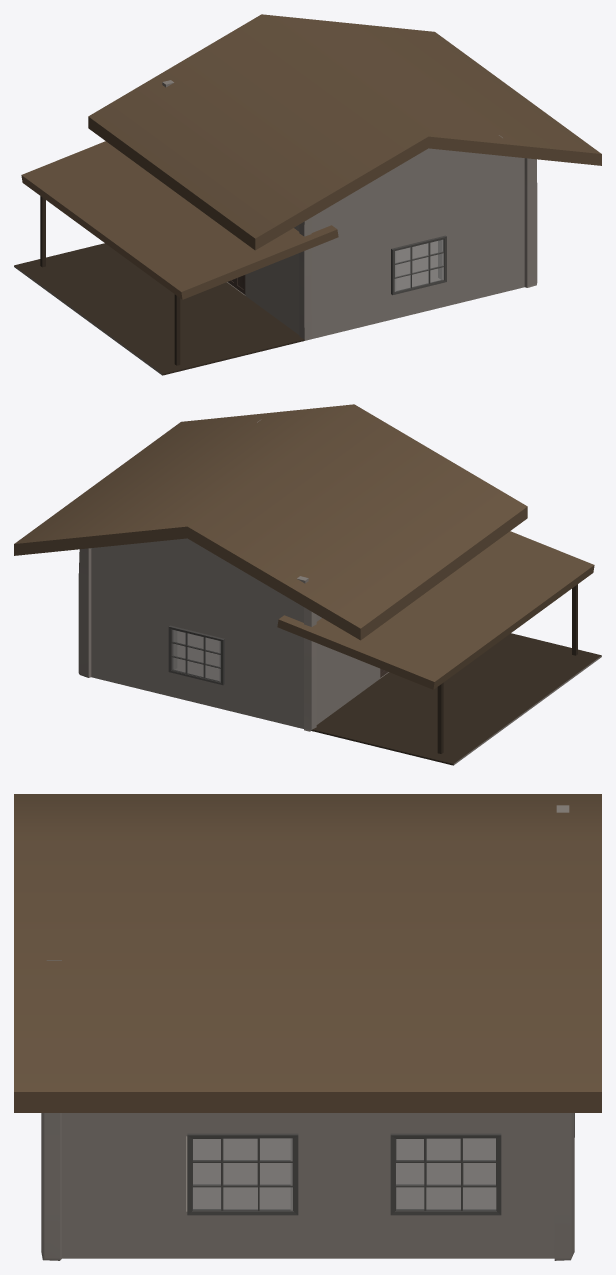
The model's file is Street House 3.fbx.
3 views of the same model, one above another, from view 1: azimuth 30°, elevation 25°; view 2: azimuth 150°, elevation 25°; view 3: azimuth 270°, elevation 25° (orthographic). The views are drawn at different scales.
Parts seen in each view (by area): view 1: polySurface19, polySurface18, polySurface20, polySurface15, polySurface21; view 2: polySurface19, polySurface18, polySurface20, polySurface16, polySurface22; view 3: polySurface19, polySurface18, polySurface14, polySurface13.
Boxes of the visible parts, box(x1,y1,x2,y2) form: polySurface19: box(88, 14, 601, 250); polySurface18: box(14, 80, 537, 375); polySurface20: box(21, 141, 338, 299); polySurface15: box(391, 235, 446, 295); polySurface21: box(174, 294, 180, 365); polySurface19: box(14, 404, 527, 640); polySurface18: box(78, 419, 601, 765); polySurface20: box(277, 531, 594, 689); polySurface16: box(168, 625, 224, 685); polySurface22: box(437, 682, 443, 753); polySurface19: box(14, 794, 601, 1112); polySurface18: box(41, 805, 574, 1260); polySurface14: box(187, 1133, 298, 1215); polySurface13: box(390, 1133, 501, 1215).
Size of the model in its own units: 60.55 by 24.64 by 40.71.
